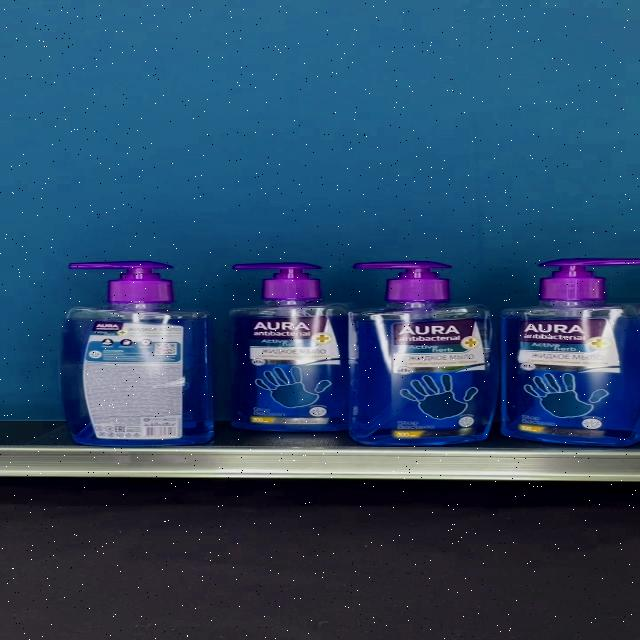Bottle: (348, 260, 500, 447), (61, 259, 212, 446), (502, 258, 640, 446), (228, 262, 346, 432)
Cap: (66, 259, 173, 301), (537, 258, 640, 301), (350, 260, 452, 300), (231, 262, 322, 298)
